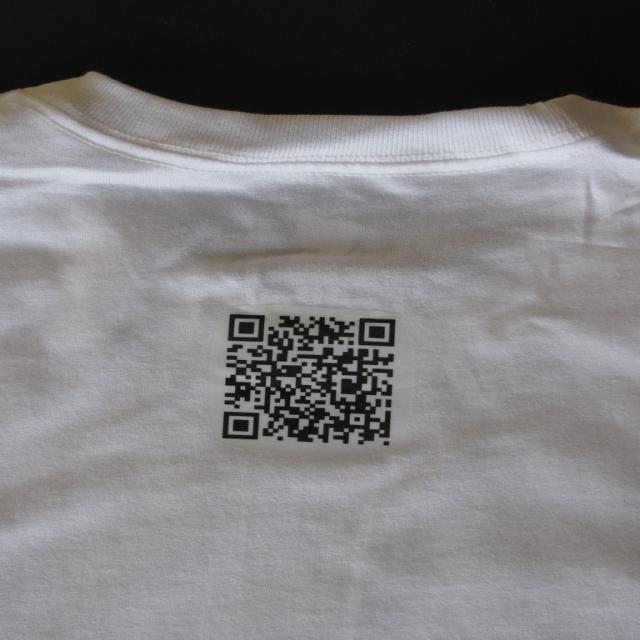qr_code: (223, 314, 395, 444)
